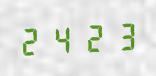four: (48, 21, 77, 55)
three: (108, 18, 137, 52)
two: (78, 19, 107, 54), (18, 23, 47, 57)
